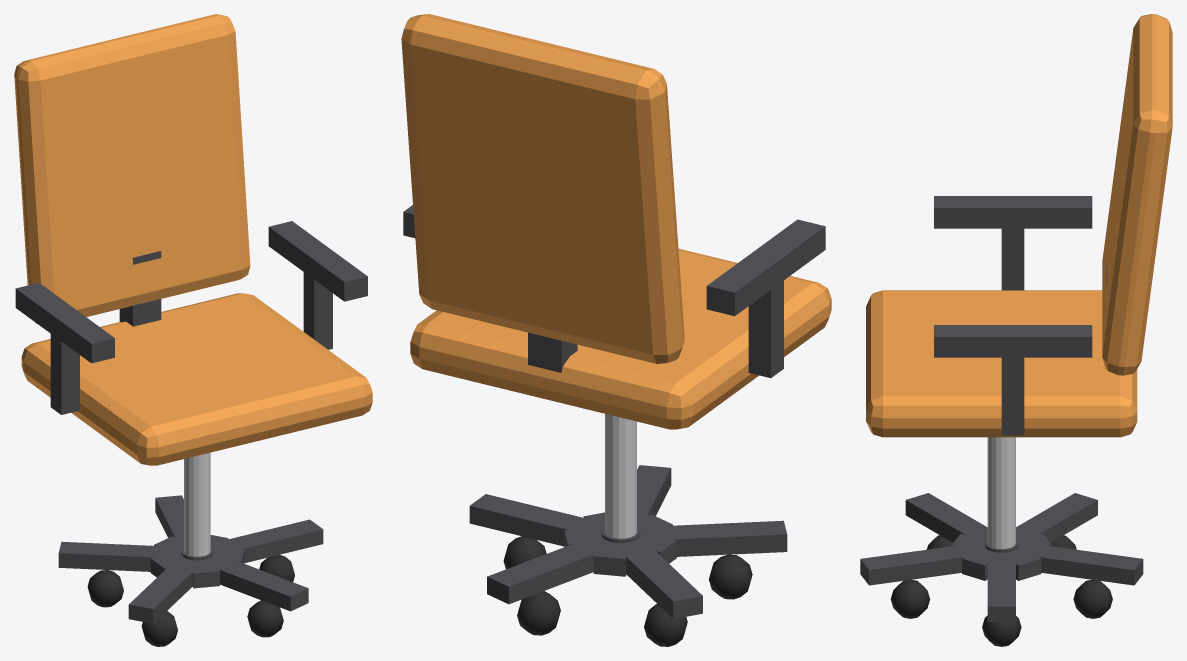
The model's file is chair_ergonomic.glb.
3 renders of one model, left to right at view 1: azimuth 30°, elevation 25°; view 2: azimuth 150°, elevation 25°; view 3: azimuth 270°, elevation 25°, orthographic. The views are drawn at different scales.
Parts seen in each view (by area): view 1: chair_ergonomic; view 2: chair_ergonomic; view 3: chair_ergonomic.
Boxes of the visible parts, bbox=[...] form: chair_ergonomic: bbox=[14, 14, 372, 646]; chair_ergonomic: bbox=[401, 14, 831, 646]; chair_ergonomic: bbox=[860, 14, 1172, 646].
Bounding box in the file's own units: 0.59 × 1.06 × 0.5525.
